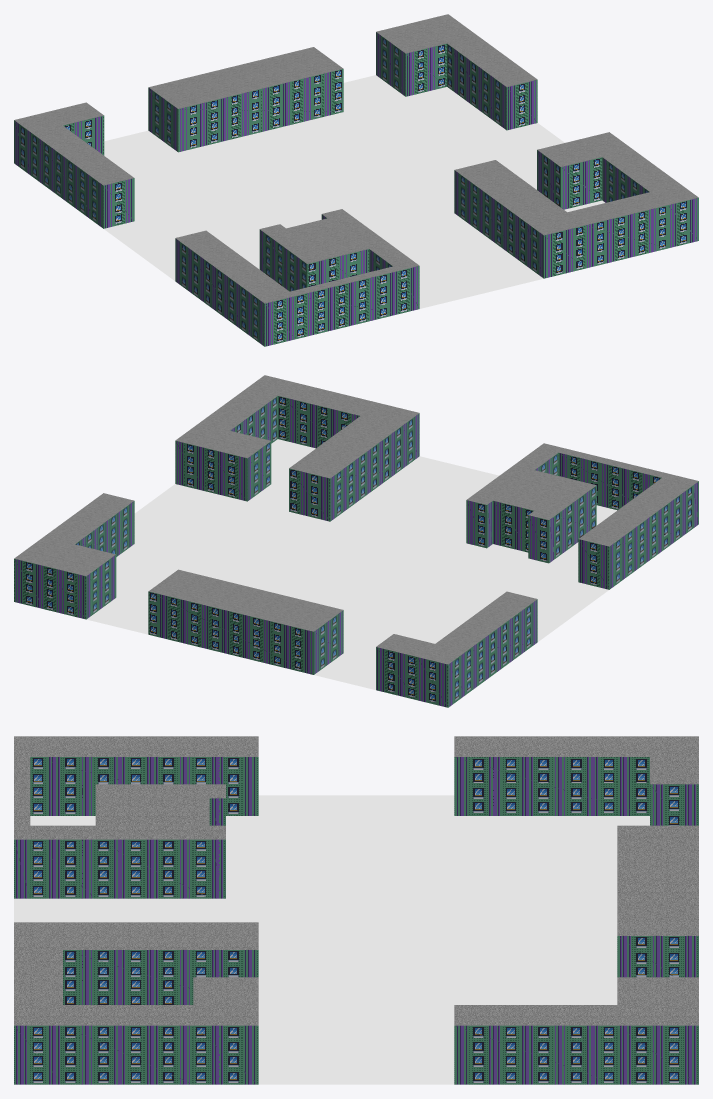
3 renders of one model, top to bottom at view 1: azimuth 30°, elevation 25°; view 2: azimuth 150°, elevation 25°; view 3: azimuth 270°, elevation 25°, orthographic. The views are drawn at different scales.
Visible parts, largest first — view 1: Plane, Building4, Building5, Building2, Building3, Building1; view 2: Plane, Building4, Building5, Building2, Building1, Building3; view 3: Plane, Building4, Building5, Building3, Building1, Building2.
Boxes of the visible parts, x1,y1,x2,y2 form: Plane: (104, 75, 605, 308); Building4: (454, 132, 698, 278); Building5: (175, 209, 419, 346); Building2: (148, 47, 343, 152); Building3: (376, 14, 537, 130); Building1: (14, 102, 134, 228); Plane: (86, 439, 616, 689); Building4: (175, 375, 419, 521); Building5: (466, 443, 698, 589); Building2: (148, 569, 343, 674); Building1: (376, 591, 537, 707); Building3: (14, 493, 134, 619); Plane: (14, 795, 649, 1084); Building4: (14, 922, 258, 1084); Building5: (14, 736, 258, 898); Building3: (454, 977, 698, 1084); Building1: (454, 736, 698, 825); Building2: (617, 825, 698, 977).
Size of the model in its own units: 420 by 40 by 420.
12 materials, 10 textured.
